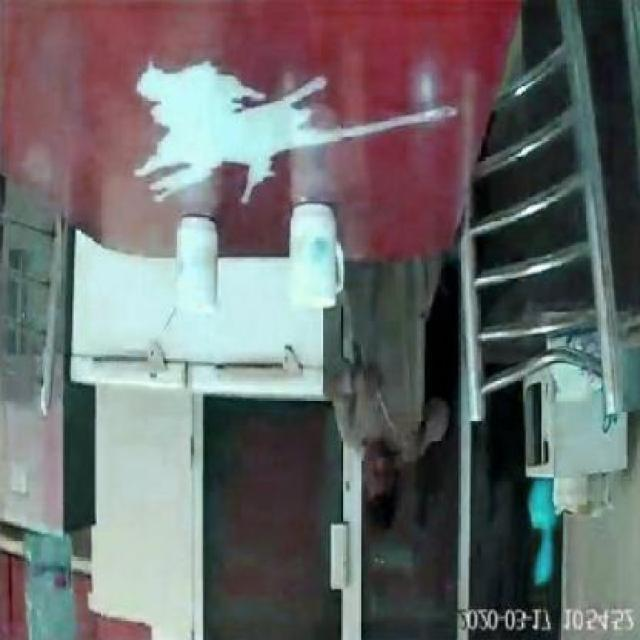spillage: (134, 60, 442, 203)
